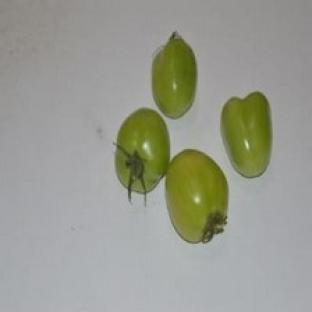Tomato: (166, 150, 228, 242), (116, 108, 169, 200), (222, 92, 271, 176), (152, 33, 197, 118)
